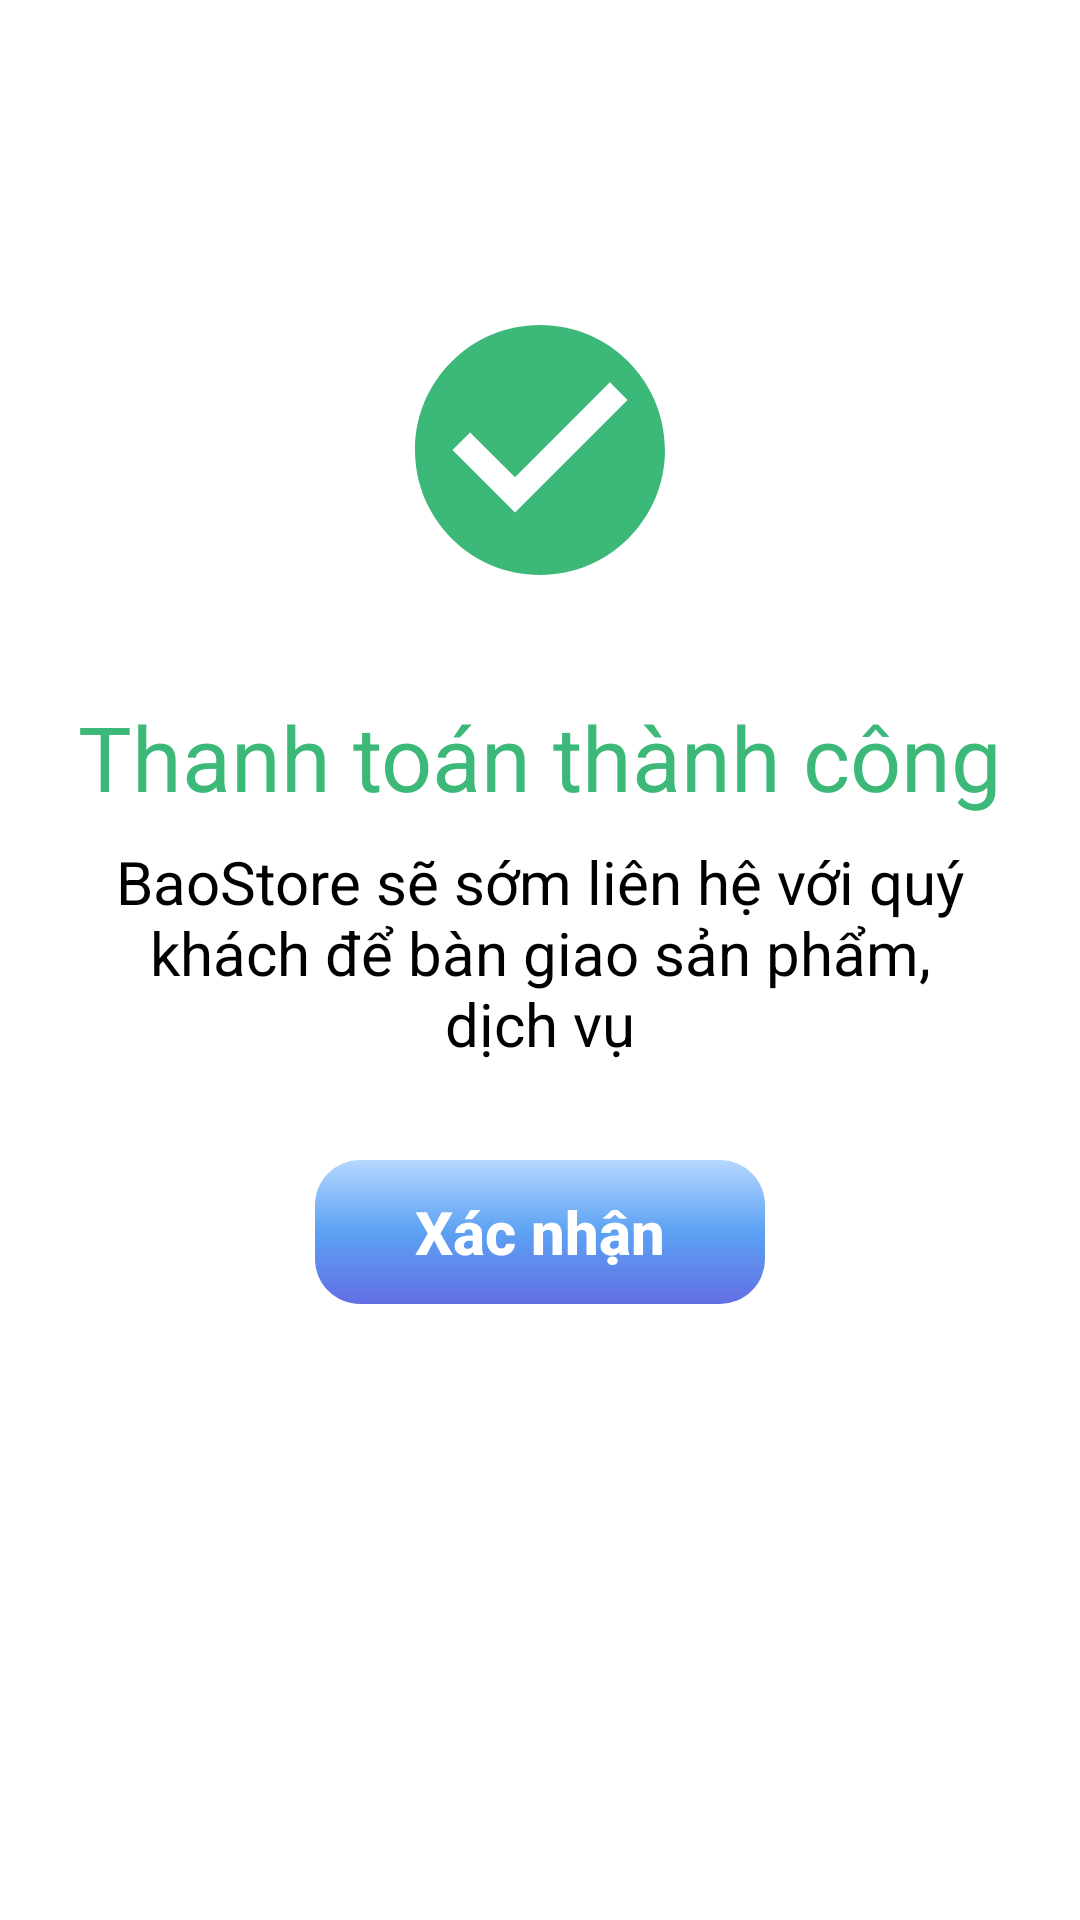

Locate icon controls on the screen. Image size 1080px x 1920px, boxes as (x1, y1, x2, y2).
check circle: (415, 325, 665, 575)
